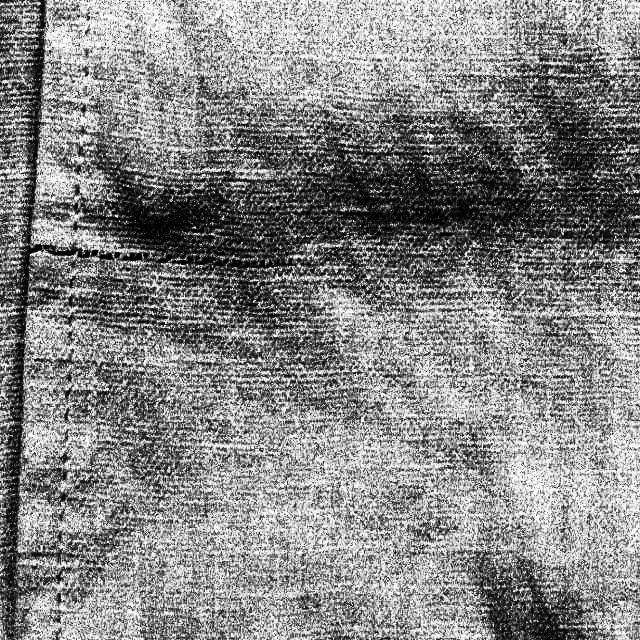Foreign_yarn: (42, 230, 344, 296)
